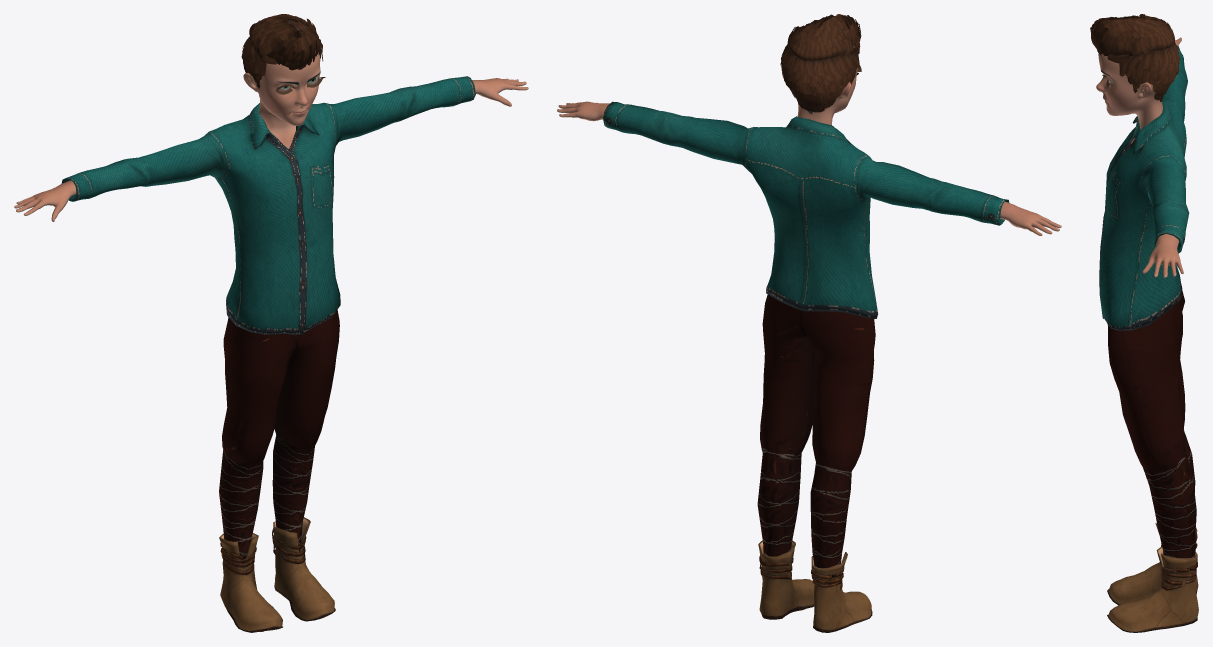
File: Farmer.obj
3 renders of one model, left to right at view 1: azimuth 30°, elevation 25°; view 2: azimuth 150°, elevation 25°; view 3: azimuth 270°, elevation 25°, orthographic. The views are drawn at different scales.
Visible parts, largest first — view 1: Tops, Bottoms, Shoes, Body, Hair; view 2: Tops, Bottoms, Hair, Shoes, Body; view 3: Tops, Bottoms, Shoes, Hair, Body.
Part boxes in pixels (left/top/right/bottom): Tops: left=61, top=76, right=475, bottom=334; Bottoms: left=219, top=310, right=339, bottom=563; Shoes: left=219, top=517, right=335, bottom=632; Body: left=14, top=20, right=528, bottom=221; Hair: left=241, top=14, right=323, bottom=88; Tops: left=603, top=101, right=1009, bottom=318; Bottoms: left=757, top=294, right=875, bottom=568; Hair: left=780, top=14, right=861, bottom=112; Shoes: left=758, top=540, right=872, bottom=632; Body: left=557, top=45, right=1061, bottom=235; Tops: left=1099, top=45, right=1189, bottom=330; Bottoms: left=1108, top=289, right=1196, bottom=558; Shoes: left=1107, top=523, right=1198, bottom=632; Hair: left=1090, top=14, right=1180, bottom=101; Body: left=1096, top=35, right=1183, bottom=277.
Bounding box in the file's own units: 150 × 169 × 27.99.
Materials: 5 (5 with a texture image).
